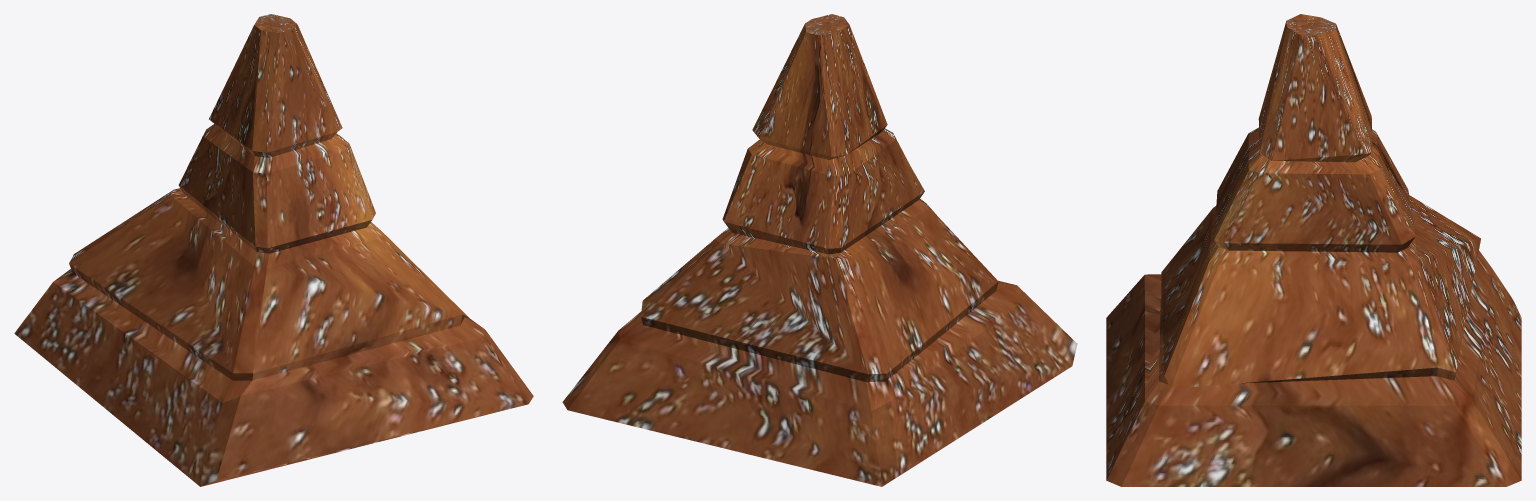
File: shitprojectile.glb
3 views of the same model, side by side, from view 1: azimuth 30°, elevation 25°; view 2: azimuth 150°, elevation 25°; view 3: azimuth 270°, elevation 25° (orthographic). The views are drawn at different scales.
Visible parts, largest first — view 1: Cube; view 2: Cube; view 3: Cube.
Part boxes in pixels (x1,y1,x2,y2): Cube: [14, 14, 533, 486]; Cube: [562, 14, 1077, 486]; Cube: [1106, 14, 1521, 486].
Bounding box in the file's own units: 2 × 2.06 × 2.
1 material, 1 textured.
